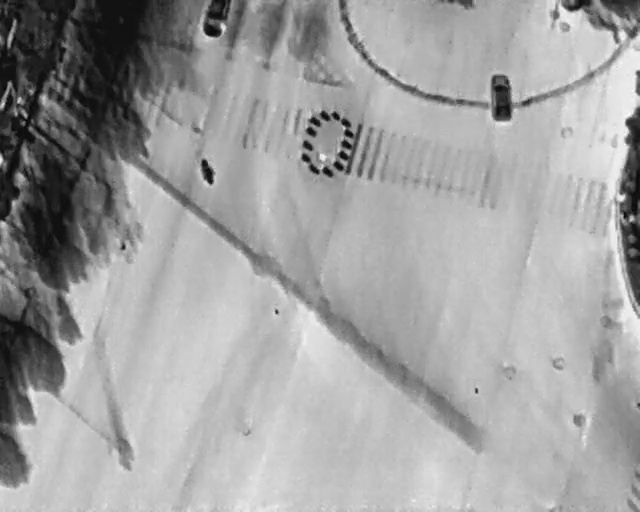Car: (203, 1, 232, 38), (491, 73, 510, 120)
OtherVehicle: (194, 154, 217, 186)
